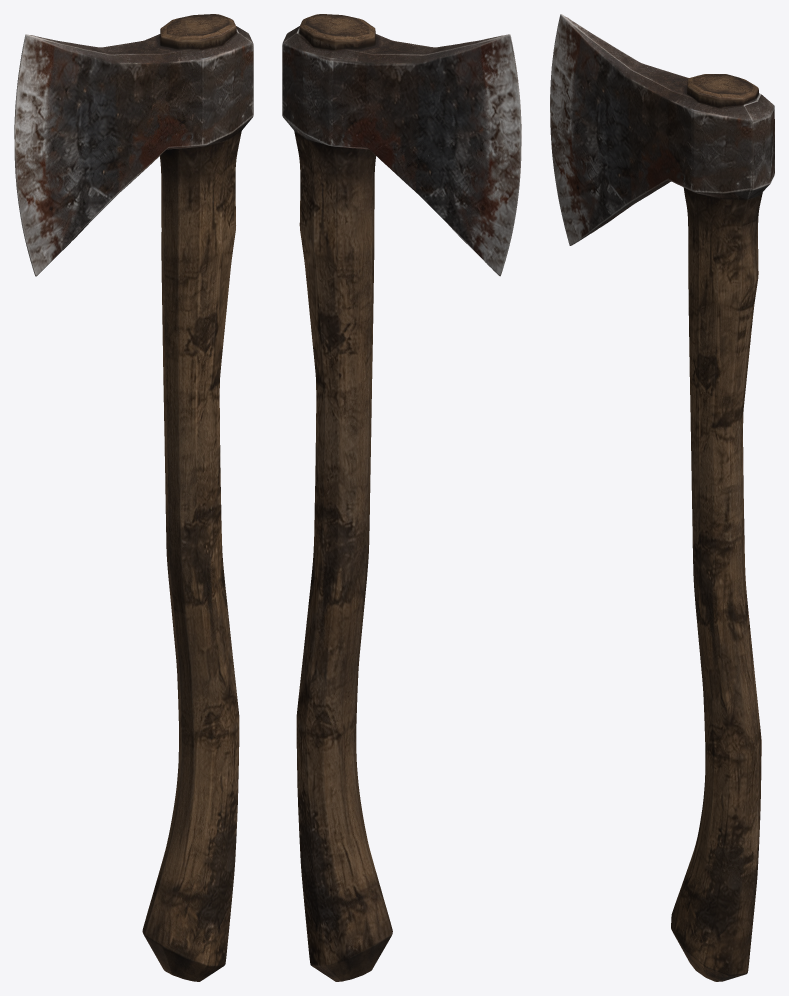
The model's file is machado_coletavel_80cm.glb.
3 views of the same model, side by side, from view 1: azimuth 30°, elevation 25°; view 2: azimuth 150°, elevation 25°; view 3: azimuth 330°, elevation 25° (orthographic). The views are drawn at different scales.
Visible parts, largest first — view 1: VisualMachado; view 2: VisualMachado; view 3: VisualMachado.
Boxes of the visible parts, x1,y1,x2,y2 form: VisualMachado: (14,14,253,981); VisualMachado: (282,14,521,981); VisualMachado: (550,14,774,981).
Size of the model in its own units: 0.1988 by 0.8 by 0.0565.
1 material, 1 textured.
